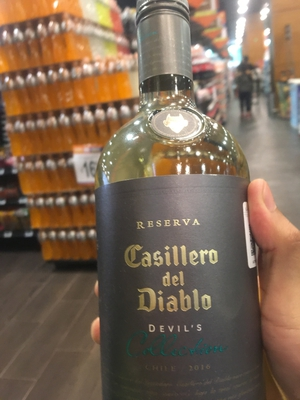casillero del diablo devils collection verde: (84, 2, 274, 392)
